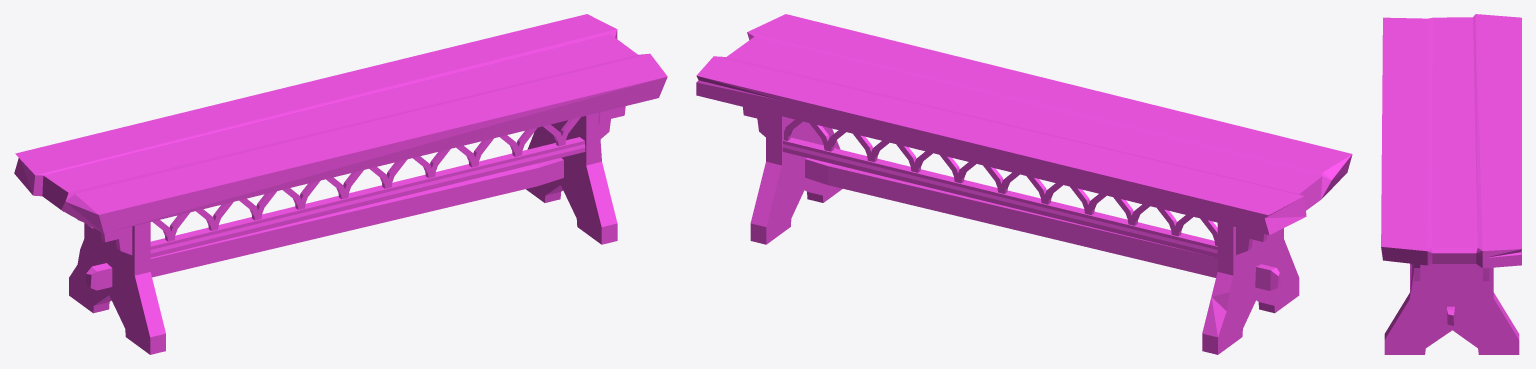
Rendered from SM_Bench_Wood_Fancy_A_Fantasy.fbx.
The picture shows the model from 3 angles, left to right: view 1: azimuth 30°, elevation 25°; view 2: azimuth 150°, elevation 25°; view 3: azimuth 270°, elevation 25°; orthographic projection. The views are drawn at different scales.
Visible parts, largest first — view 1: SM_Bench_Wood_Fancy_A_Fantasy; view 2: SM_Bench_Wood_Fancy_A_Fantasy; view 3: SM_Bench_Wood_Fancy_A_Fantasy.
Part boxes in pixels (x1,y1,x2,y2): SM_Bench_Wood_Fancy_A_Fantasy: (14, 14, 667, 354); SM_Bench_Wood_Fancy_A_Fantasy: (696, 14, 1352, 354); SM_Bench_Wood_Fancy_A_Fantasy: (1381, 14, 1521, 354).
Bounding box in the file's own units: 2 × 0.5 × 0.4999.
